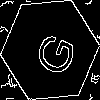G: (25, 25, 79, 80)
